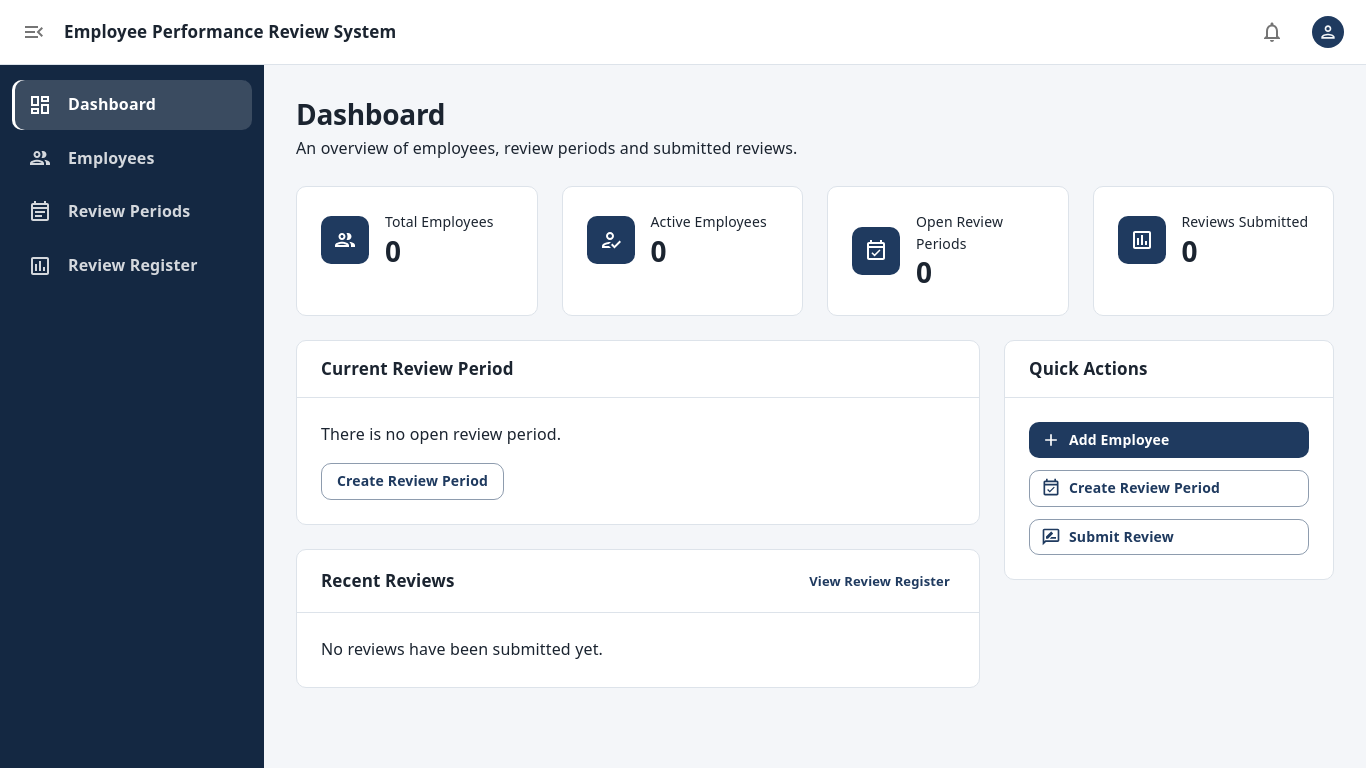
Test: application routes › opens the planned screens from the dashboard quick actions
Click the link "Submit Review" at (1169, 537), box [1029,518,1309,555]
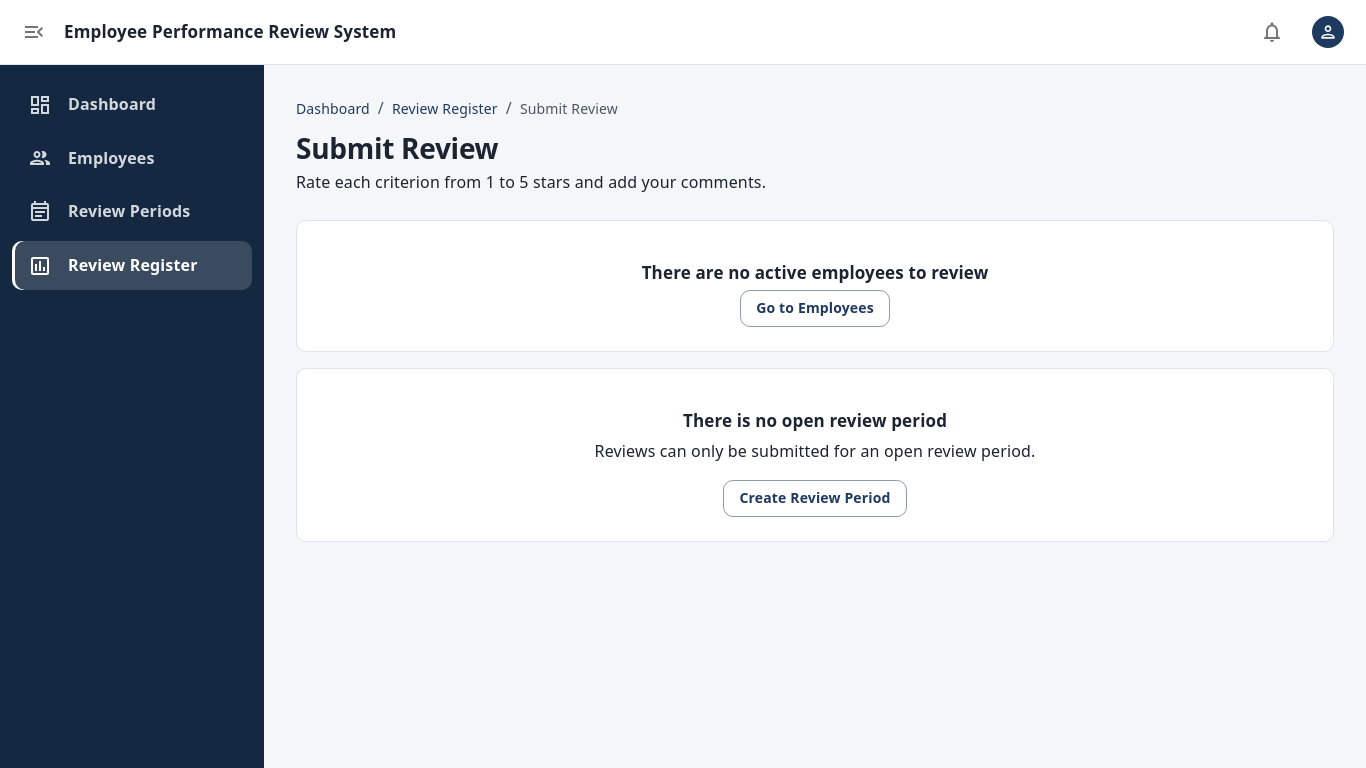
Expected: the heading "Submit Review" is shown, [296,129,498,167]
